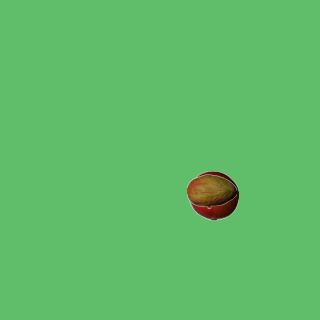Apple Braeburn: (188, 170, 238, 220)
Papaya: (186, 166, 236, 216)
